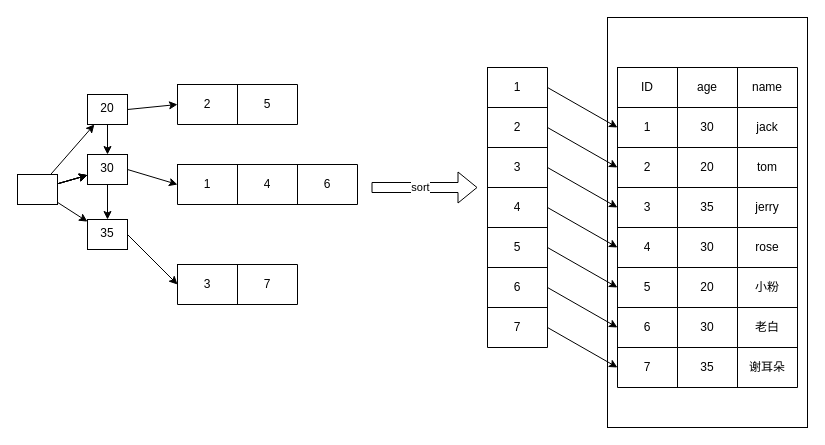
Some shapes in this 825 by 445 pixel diagram are drawn without their labels. The shapes that lost their labels are listed below. From the top down, each one's box as (x1, y1, x2, y2) in pixels, then its label:
(16, 174, 58, 204): root
(606, 16, 808, 428): 磁盘数据
